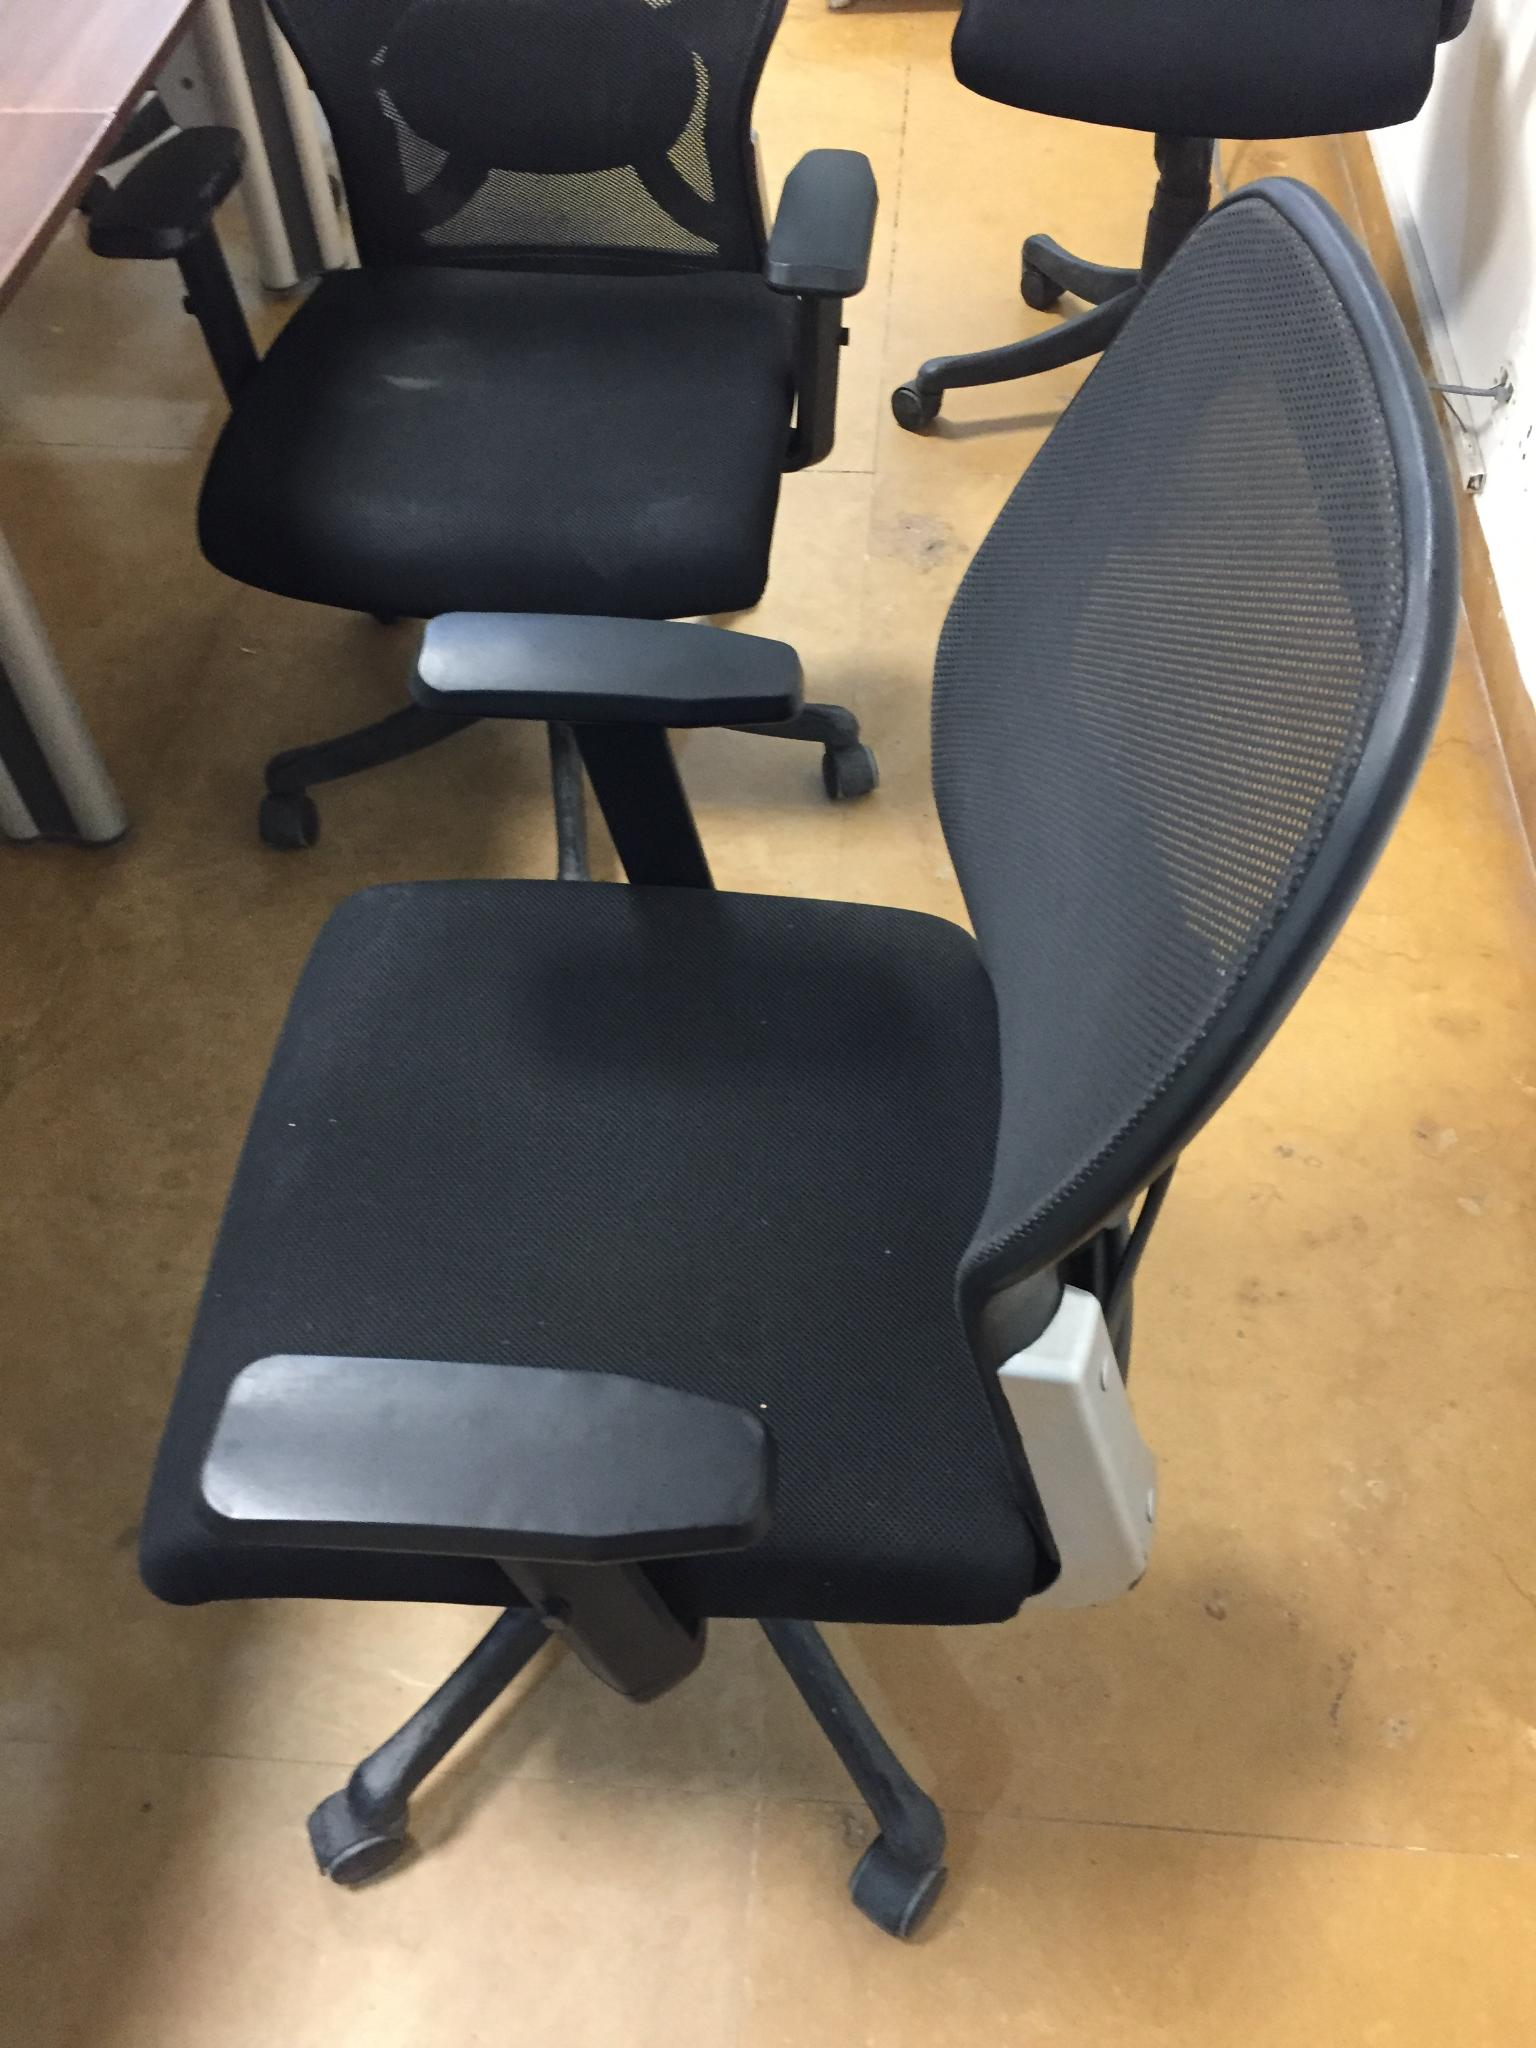chair: (136, 173, 1462, 1940), (77, 0, 881, 884), (891, 0, 1475, 434)
